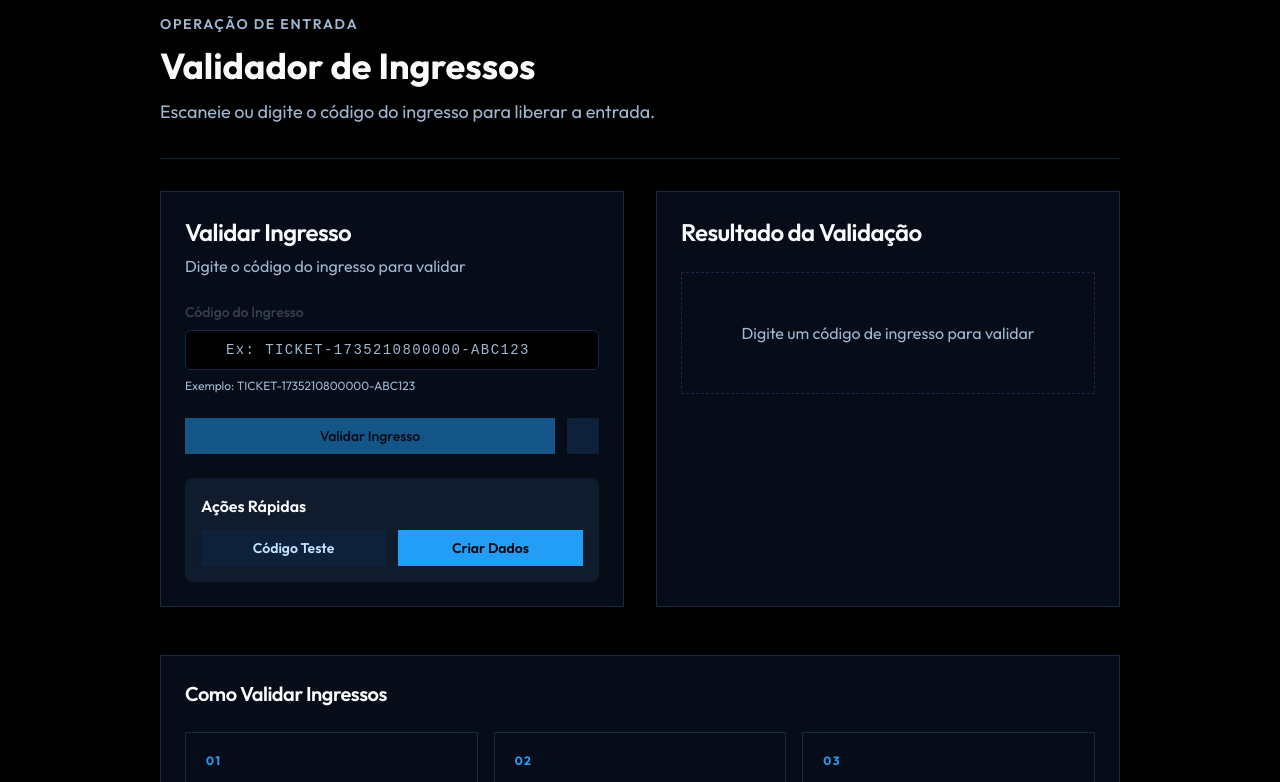
Test: ValidatorPage › exibe USADO no histórico para status error
Type "TICKET-USED" into the field with placeholder "Ex: TICKET-1735210800000-ABC123" at (392, 350), box [185,330,599,370]
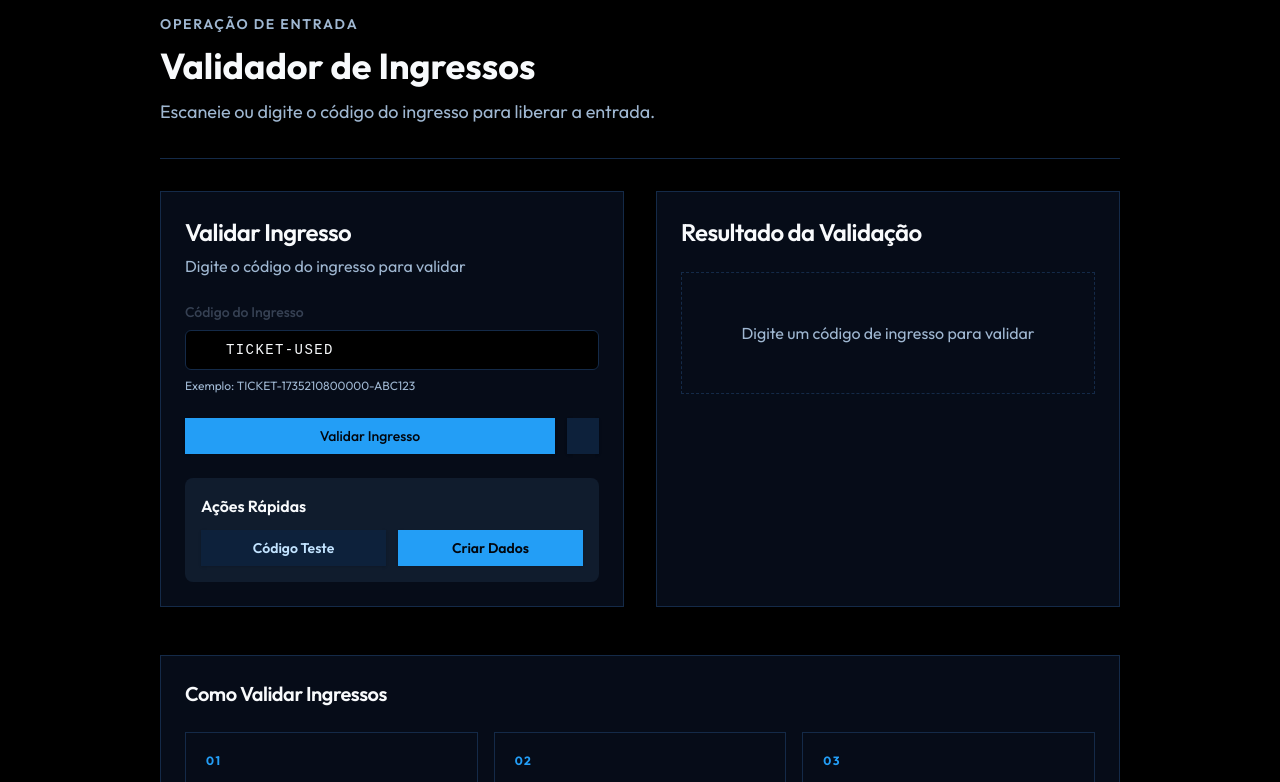
Click the button "Validar Ingresso" at (370, 436), box [185,418,555,454]
(page scrolled)
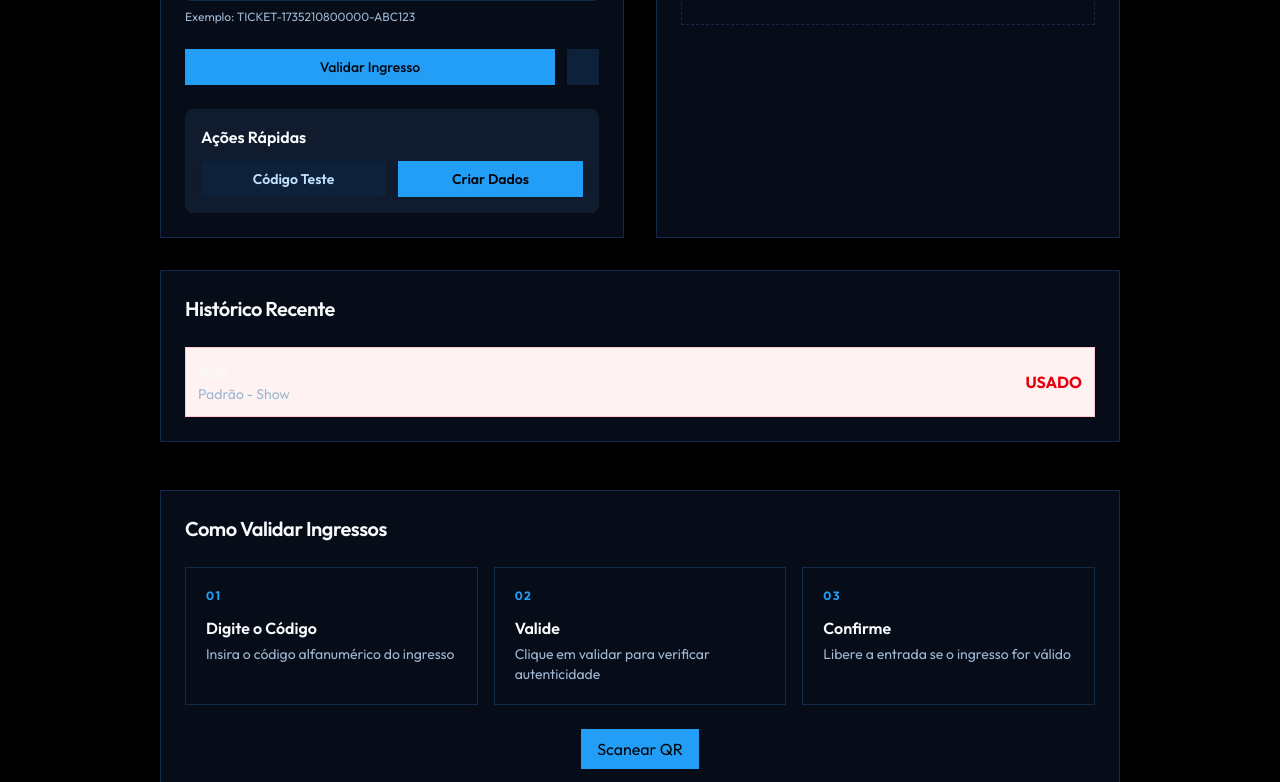
Check: the text "USADO" is shown, box [1025,370,1082,394]
